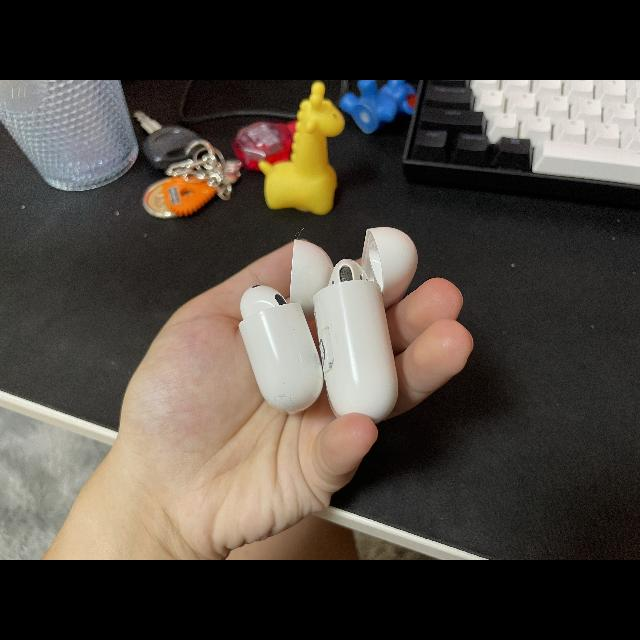airpod2: (315, 223, 421, 427)
airpod3: (232, 235, 338, 418)
